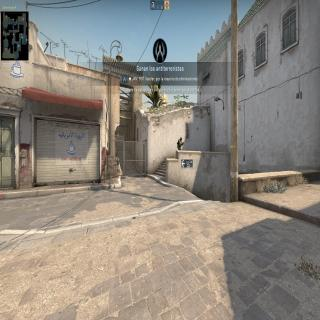CT-Head: (180, 136, 182, 141)
